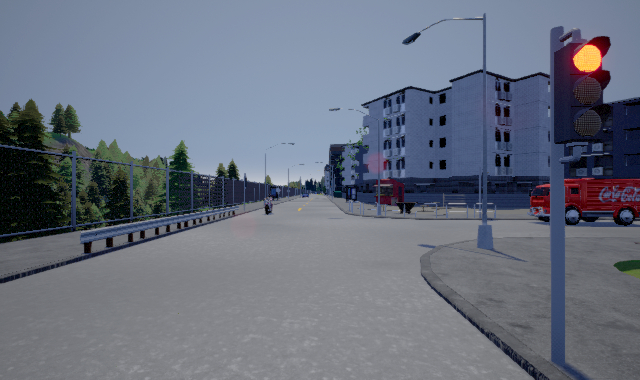motobike: (263, 194, 276, 215)
traffic_light: (554, 34, 611, 143)
vehicle: (529, 178, 640, 226)
